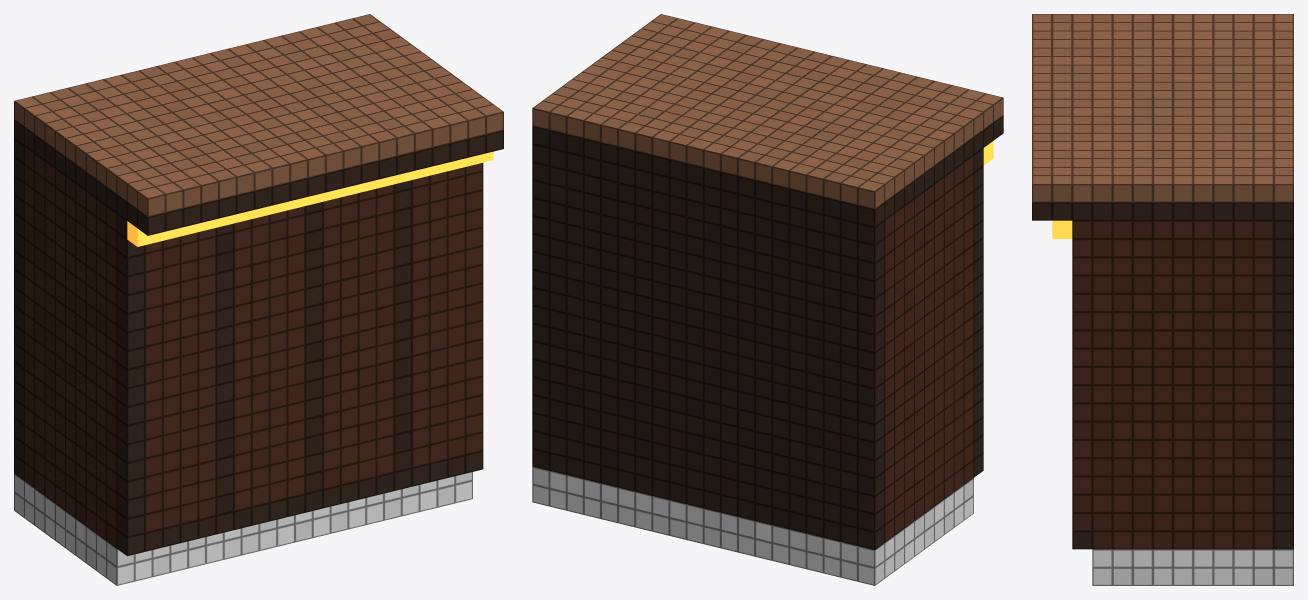
File: bar_counter.glb
3 views of the same model, side by side, from view 1: azimuth 30°, elevation 25°; view 2: azimuth 150°, elevation 25°; view 3: azimuth 270°, elevation 25° (orthographic). The views are drawn at different scales.
Visible parts, largest first — view 1: bar_counter; view 2: bar_counter; view 3: bar_counter.
Part boxes in pixels (left/top/right/bottom): bar_counter: left=14, top=14, right=503, bottom=585; bar_counter: left=532, top=14, right=1003, bottom=585; bar_counter: left=1032, top=14, right=1293, bottom=585.
Bounding box in the file's own units: 1 × 1.1 × 0.65.
5 materials, 4 textured.
